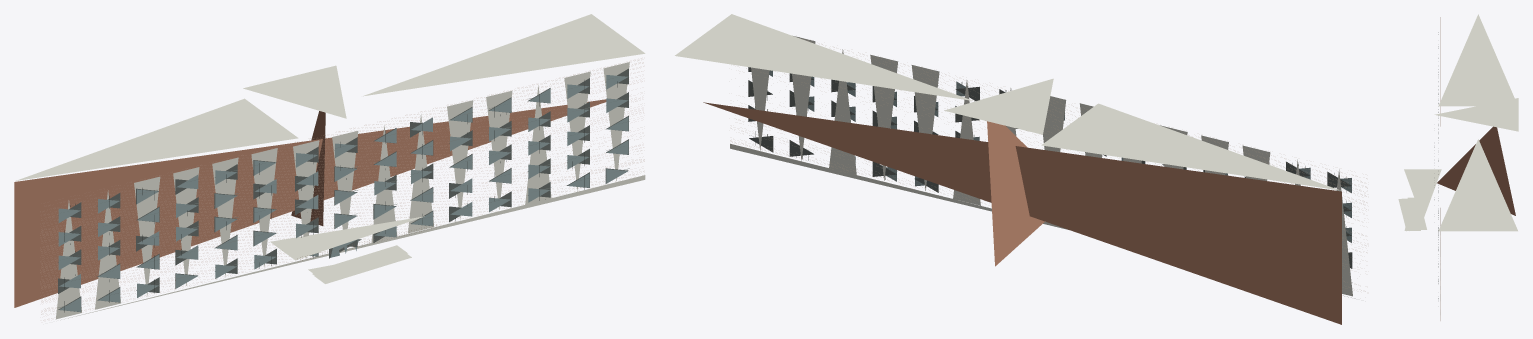
The picture shows the model from 3 angles, left to right: view 1: azimuth 30°, elevation 25°; view 2: azimuth 150°, elevation 25°; view 3: azimuth 270°, elevation 25°; orthographic projection. The views are drawn at different scales.
Parts seen in each view (by area): view 1: 恒隆物理楼 · Physics pale stone.002, 恒隆物理楼 · Physics red brick.002, 恒隆物理楼 · Physics glazing.002, 恒隆物理楼 · Physics window frames.002, 恒隆物理楼 · Physics brick joints.002; view 2: 恒隆物理楼 · Physics red brick.002, 恒隆物理楼 · Physics pale stone.002, 恒隆物理楼 · Physics window frames.002, 恒隆物理楼 · Physics glazing.002; view 3: 恒隆物理楼 · Physics pale stone.002, 恒隆物理楼 · Physics red brick.002, 恒隆物理楼 · Physics brick joints.002.
Part boxes in pixels (x1=…): 恒隆物理楼 · Physics pale stone.002: x1=16, y1=14, x2=645, y2=320; 恒隆物理楼 · Physics red brick.002: x1=14, y1=99, x2=606, y2=307; 恒隆物理楼 · Physics glazing.002: x1=58, y1=75, x2=628, y2=311; 恒隆物理楼 · Physics window frames.002: x1=58, y1=68, x2=629, y2=312; 恒隆物理楼 · Physics brick joints.002: x1=40, y1=58, x2=644, y2=320; 恒隆物理楼 · Physics red brick.002: x1=703, y1=102, x2=1341, y2=324; 恒隆物理楼 · Physics pale stone.002: x1=675, y1=14, x2=1355, y2=298; 恒隆物理楼 · Physics window frames.002: x1=748, y1=67, x2=1352, y2=282; 恒隆物理楼 · Physics glazing.002: x1=768, y1=70, x2=1351, y2=242; 恒隆物理楼 · Physics pale stone.002: x1=1398, y1=14, x2=1518, y2=231; 恒隆物理楼 · Physics red brick.002: x1=1437, y1=126, x2=1515, y2=215; 恒隆物理楼 · Physics brick joints.002: x1=1440, y1=17, x2=1440, y2=320.
Size of the model in its own units: 92.8 by 20.15 by 21.65.
